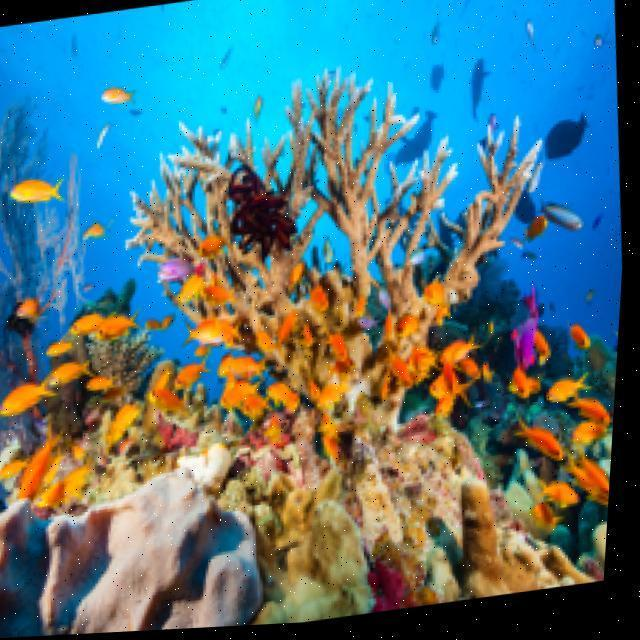Healthy Coral: (128, 18, 576, 430), (276, 378, 513, 577)
